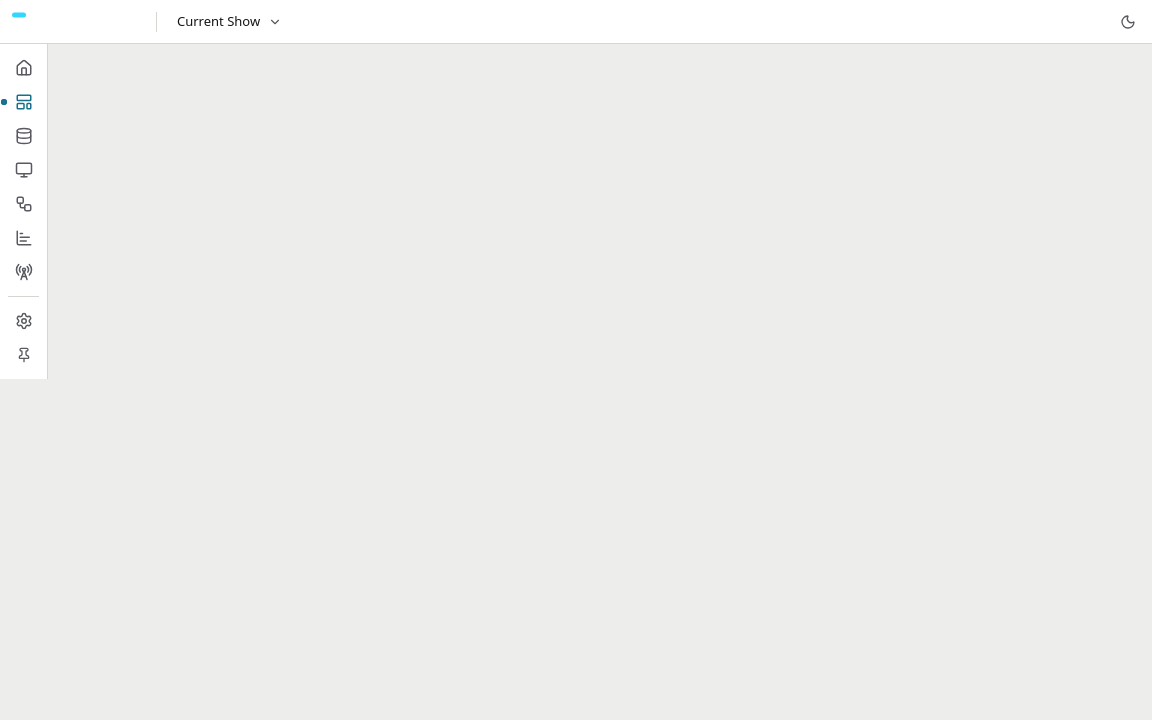
Test: command palette › Esc closes; Ctrl+Shift+P opens it too, even while typing; nothing matches says so
Press k
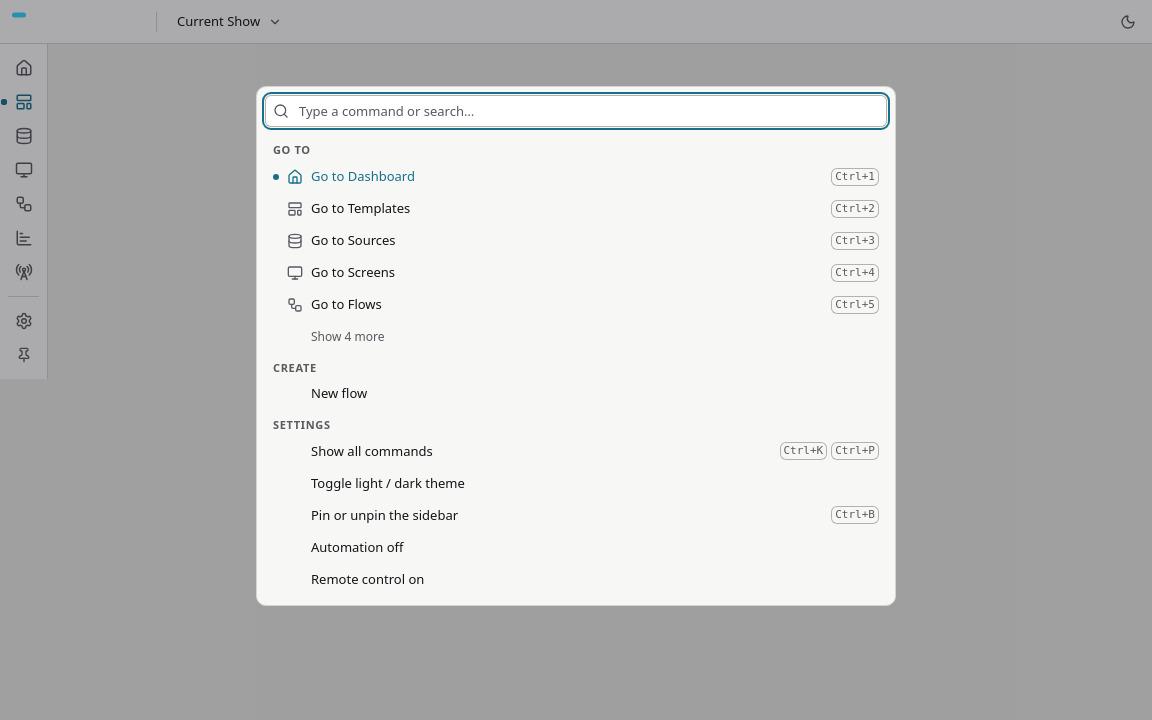
Check: the dialog named "Command palette" is shown, box [256,86,896,606]
Press Escape in the dropdown named "Search commands", box [297,95,879,127]
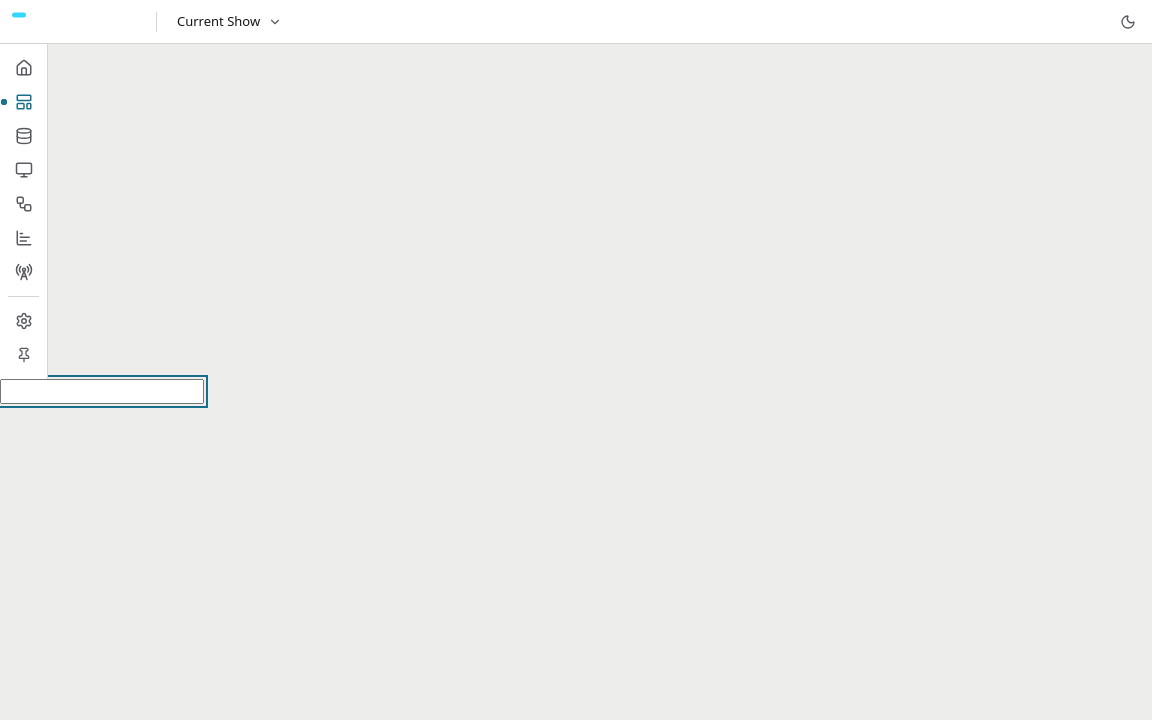
Check: the dialog "Command palette" is gone
Press P in the field, box [0,379,204,404]
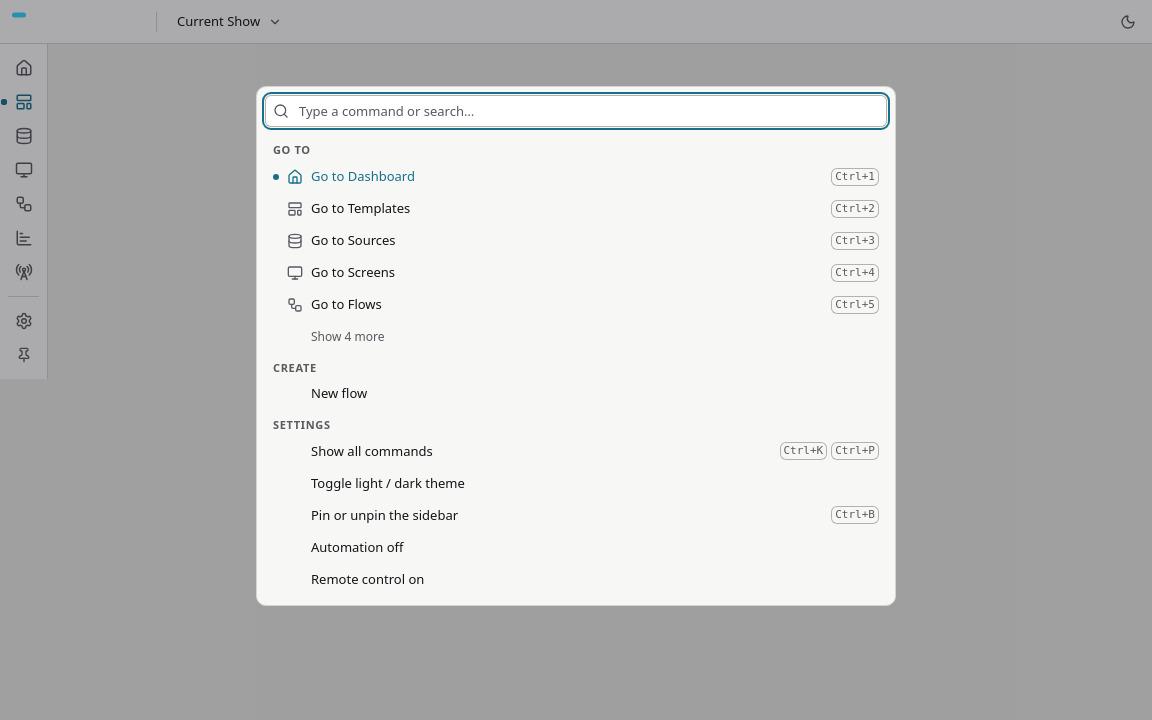
Check: the dialog named "Command palette" is shown, box [256,86,896,606]
Type "zzqx" into the dropdown named "Search commands".
click(588, 111); type("zzqx")  # box [297,95,879,127]
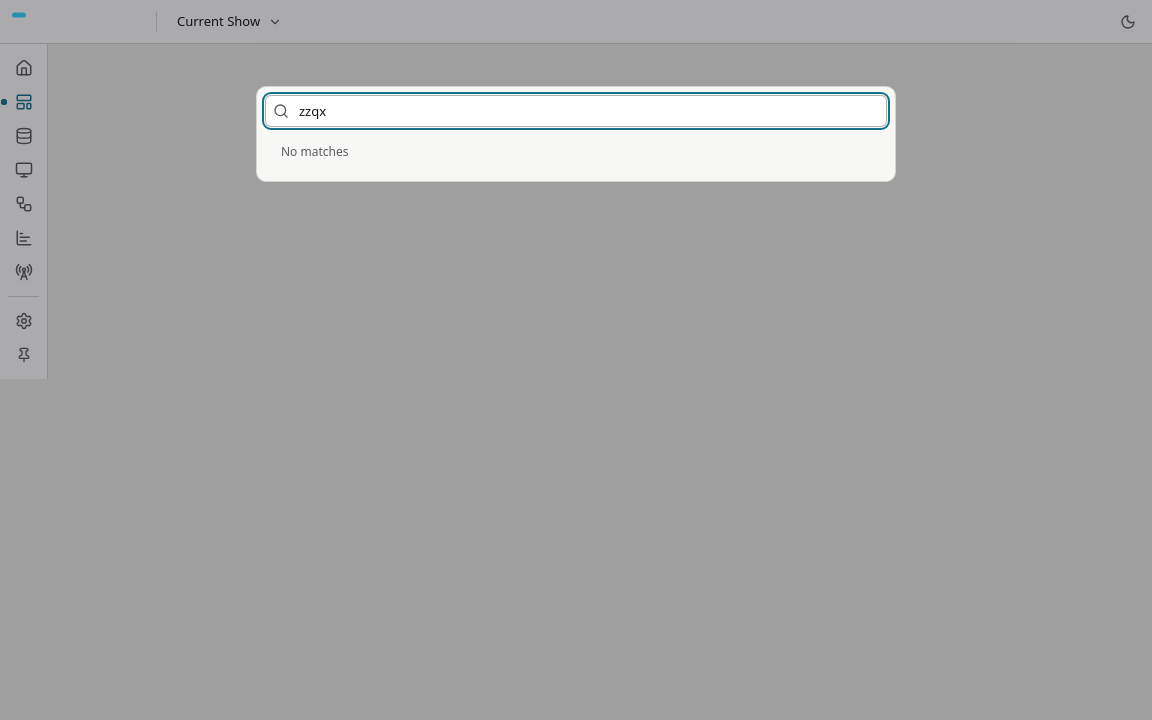
Check: the text "No matches" is shown, box [281,143,348,160]
